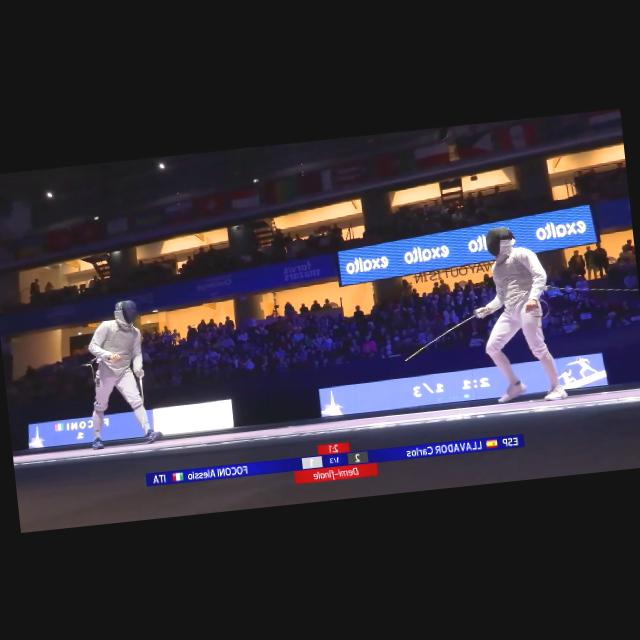blade: (394, 308, 486, 363), (134, 365, 150, 431)
